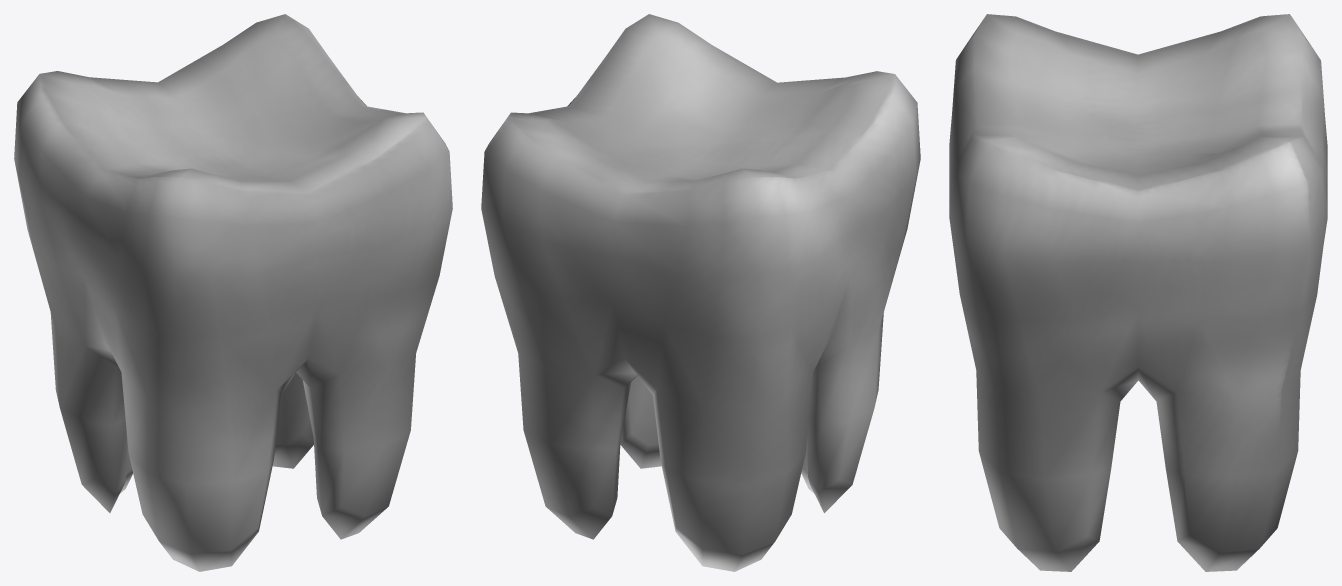
File: Tooth.fbx
The picture shows the model from 3 angles, left to right: view 1: azimuth 30°, elevation 25°; view 2: azimuth 150°, elevation 25°; view 3: azimuth 270°, elevation 25°; orthographic projection. The views are drawn at different scales.
Parts seen in each view (by area): view 1: Tooth; view 2: Tooth; view 3: Tooth.
Boxes of the visible parts, box(x1,y1,x2,y2) form: Tooth: box(14, 14, 452, 571); Tooth: box(481, 14, 920, 571); Tooth: box(949, 14, 1327, 571).
Bounding box in the file's own units: 225 × 295 × 225.
